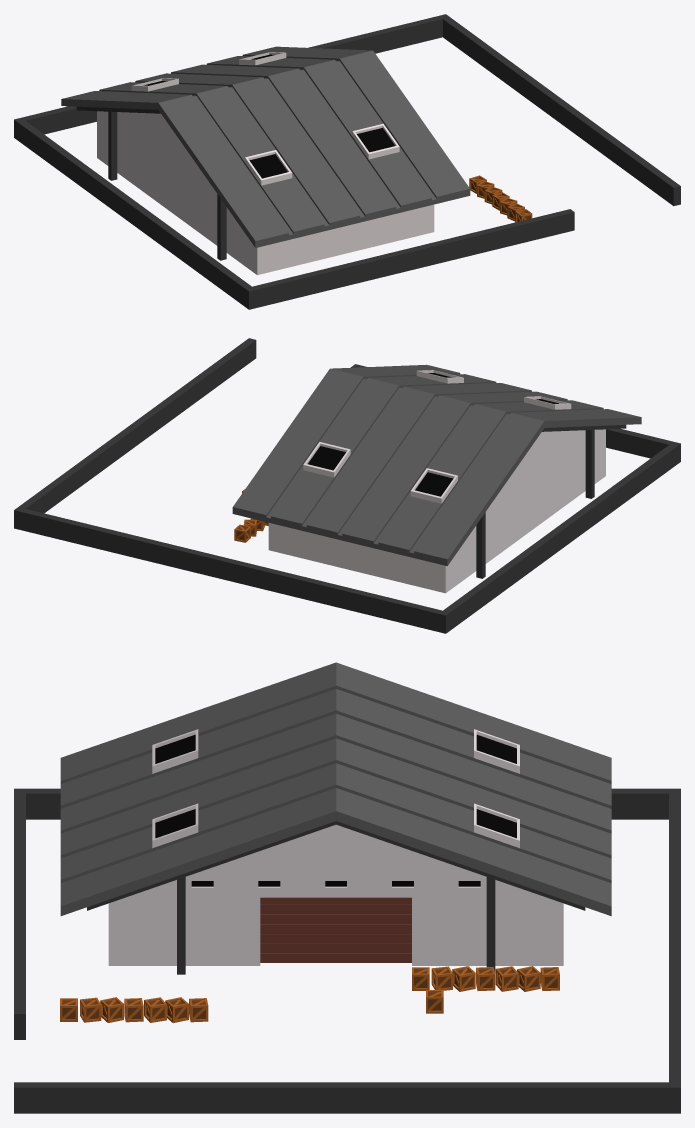
Rendered from warehouse.glb.
3 views of the same model, one above another, from view 1: azimuth 30°, elevation 25°; view 2: azimuth 150°, elevation 25°; view 3: azimuth 270°, elevation 25° (orthographic). The views are drawn at different scales.
Parts seen in each view (by area): view 1: roof, Plane, body, roof.001, support, crate.002; view 2: roof, Plane, body, roof.001, support, crate.001; view 3: roof, body, Plane, gerbang, roof.001, support, crate.002, crate.001, ventilation.
Part boxes in pixels (x1,y1,x2,y2): roof: (61, 46, 470, 247); Plane: (14, 14, 680, 309); body: (97, 111, 434, 275); roof.001: (131, 52, 399, 185); support: (76, 106, 226, 260); crate.002: (469, 175, 532, 222); roof: (232, 364, 641, 566); Plane: (14, 338, 680, 633); body: (268, 429, 605, 593); roof.001: (303, 370, 571, 503); support: (476, 424, 626, 578); crate.001: (234, 518, 268, 542); roof: (60, 662, 611, 916); body: (108, 824, 563, 965); Plane: (14, 788, 680, 1113); gerbang: (260, 897, 411, 962); roof.001: (152, 729, 519, 848); support: (87, 821, 585, 974); crate.002: (60, 997, 208, 1022); crate.001: (412, 966, 559, 991); ventilation: (191, 881, 480, 886).
Size of the model in its own units: 5.87 by 1.54 by 5.54.
